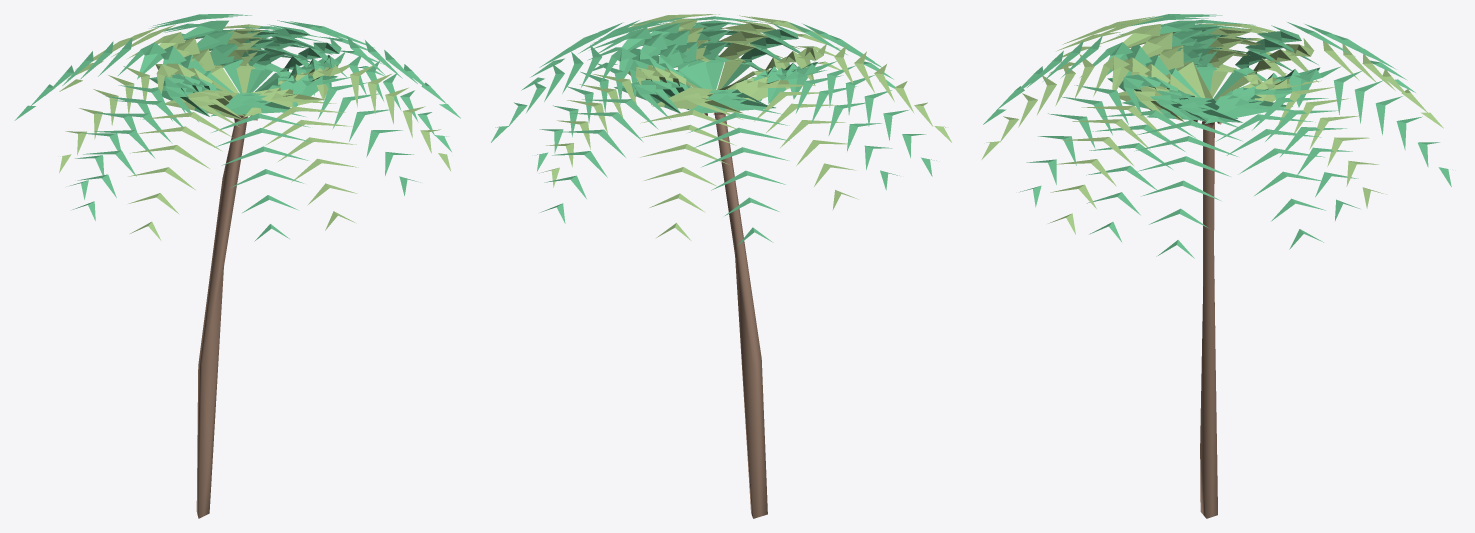
File: palm_1_lod.glb
3 renders of one model, left to right at view 1: azimuth 30°, elevation 25°; view 2: azimuth 150°, elevation 25°; view 3: azimuth 270°, elevation 25°, orthographic. The views are drawn at different scales.
Visible parts, largest first — view 1: Coconut; view 2: Coconut; view 3: Coconut.
Part boxes in pixels (x1,y1,x2,y2): Coconut: (14, 14, 460, 518); Coconut: (491, 14, 951, 518); Coconut: (981, 14, 1451, 518).
Size of the model in its own units: 9.57 by 10.28 by 9.44.
